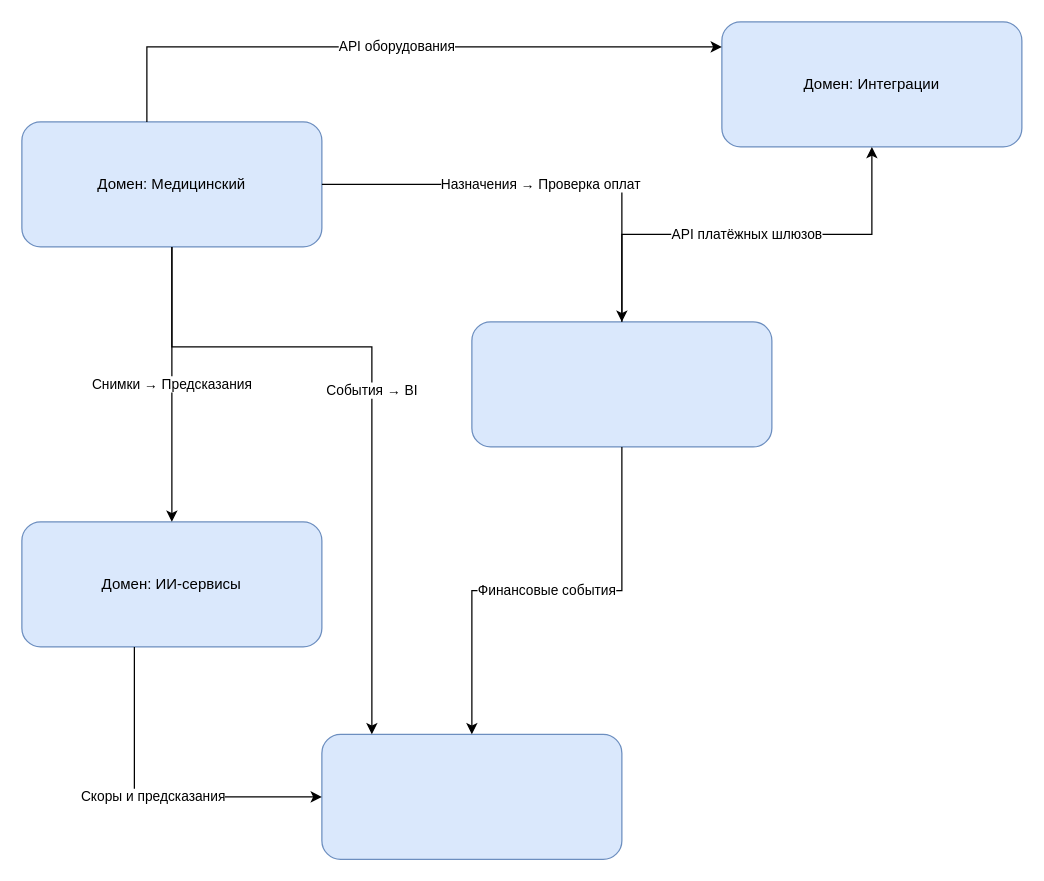
Image size: 1044x881. Some labels were removed from this diagram. Here are the shapes that lost their labels. From the top down, the centre of each, then its label:
At point 621,384: "Домен: Финансовый".
At point 471,796: "Домен: Аналитика и BI".
